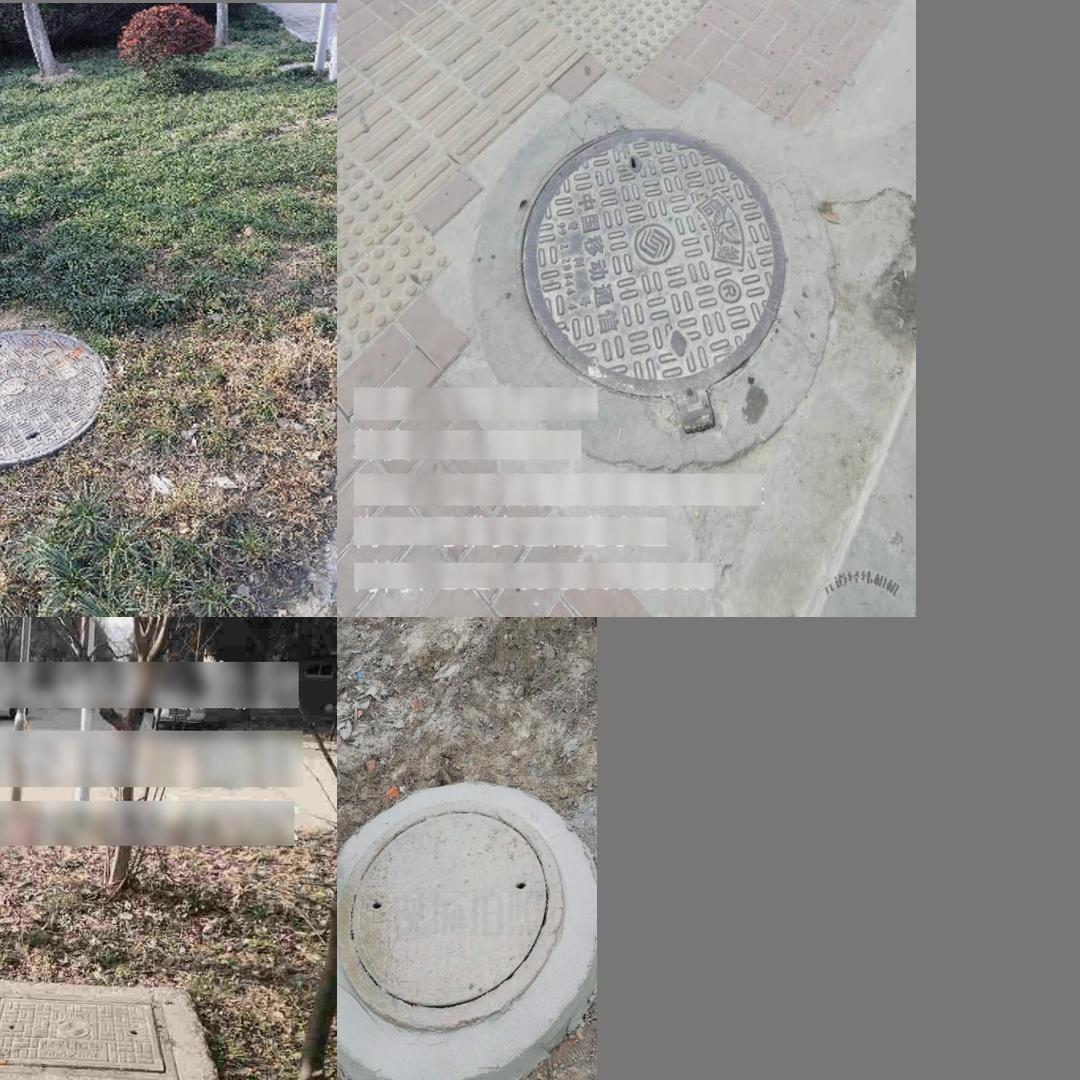good: (516, 125, 792, 438), (337, 800, 562, 1031), (0, 990, 178, 1079), (0, 323, 107, 470)
